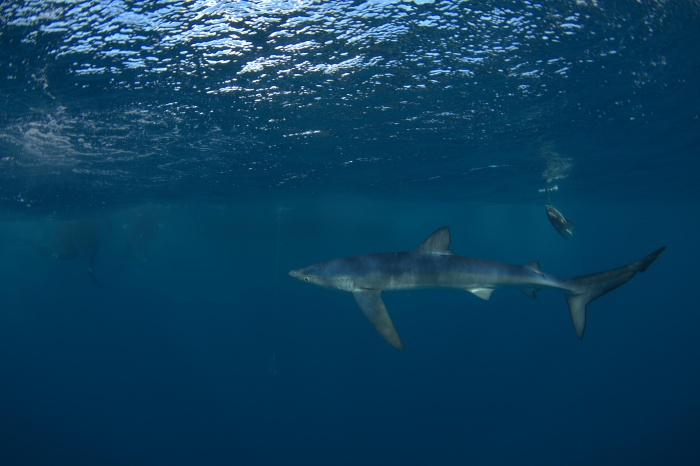Azul: (286, 200, 700, 384)
